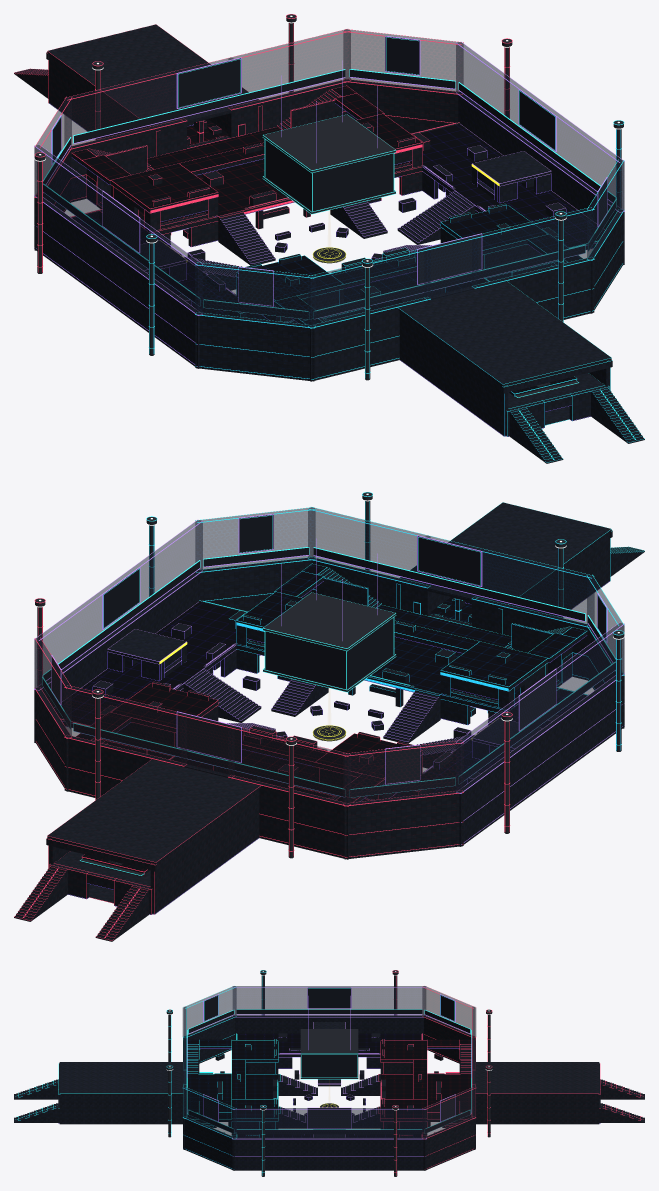
The model's file is kb_arena_v31g.glb.
3 renders of one model, top to bottom at view 1: azimuth 30°, elevation 25°; view 2: azimuth 150°, elevation 25°; view 3: azimuth 270°, elevation 25°, orthographic. The views are drawn at different scales.
Visible parts, largest first — view 1: skin; view 2: skin; view 3: skin.
Part boxes in pixels (<box>): skin: <box>14,14,644,463</box>; skin: <box>14,492,644,941</box>; skin: <box>14,970,644,1176</box>.
Bounding box in the file's own units: 140 × 49.53 × 271.
24 materials, 6 textured.
